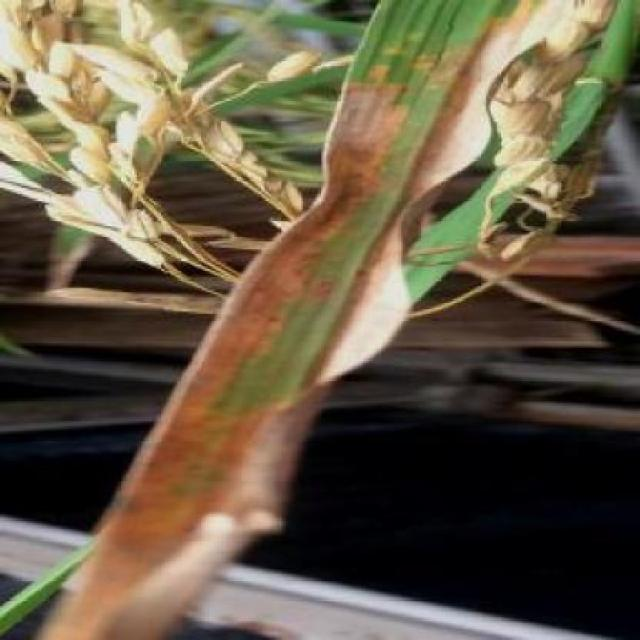Brown_Spot: (307, 0, 471, 382)
